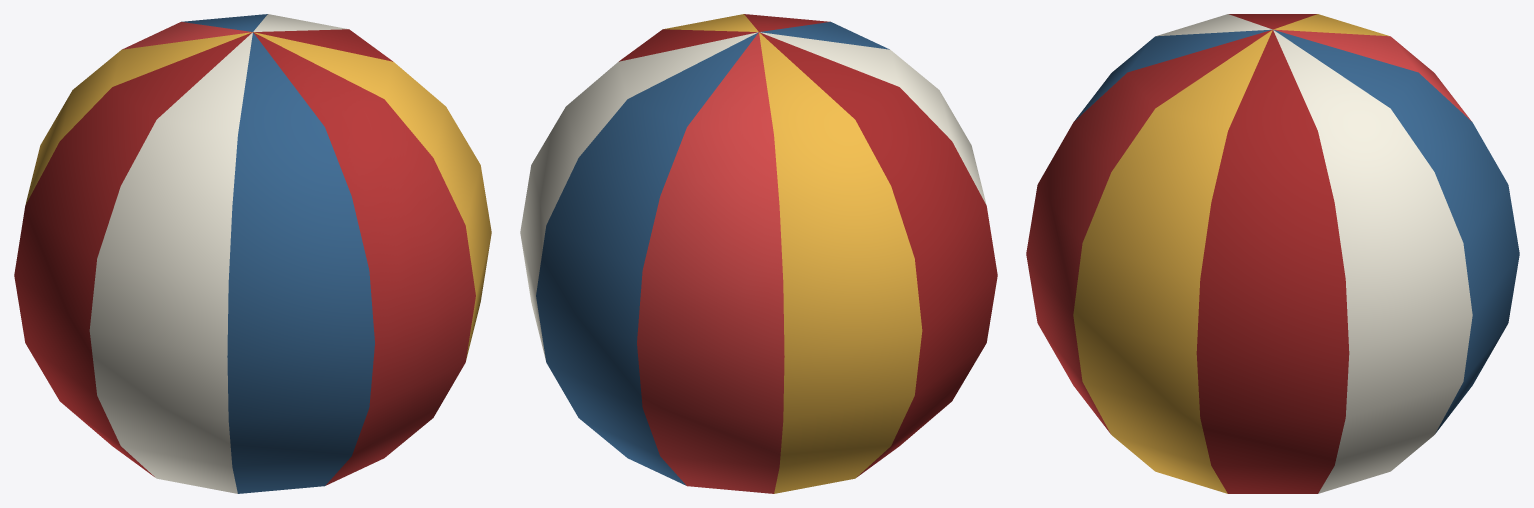
File: 38_prop_ball.FBX
3 views of the same model, side by side, from view 1: azimuth 30°, elevation 25°; view 2: azimuth 150°, elevation 25°; view 3: azimuth 270°, elevation 25° (orthographic).
Visible parts, largest first — view 1: prop_ball; view 2: prop_ball; view 3: prop_ball.
Boxes of the visible parts, left/top/right/bottom form: prop_ball: left=14, top=14, right=491, bottom=493; prop_ball: left=520, top=14, right=997, bottom=493; prop_ball: left=1026, top=14, right=1519, bottom=493.
Size of the model in its own units: 22.23 by 23.44 by 23.37.
